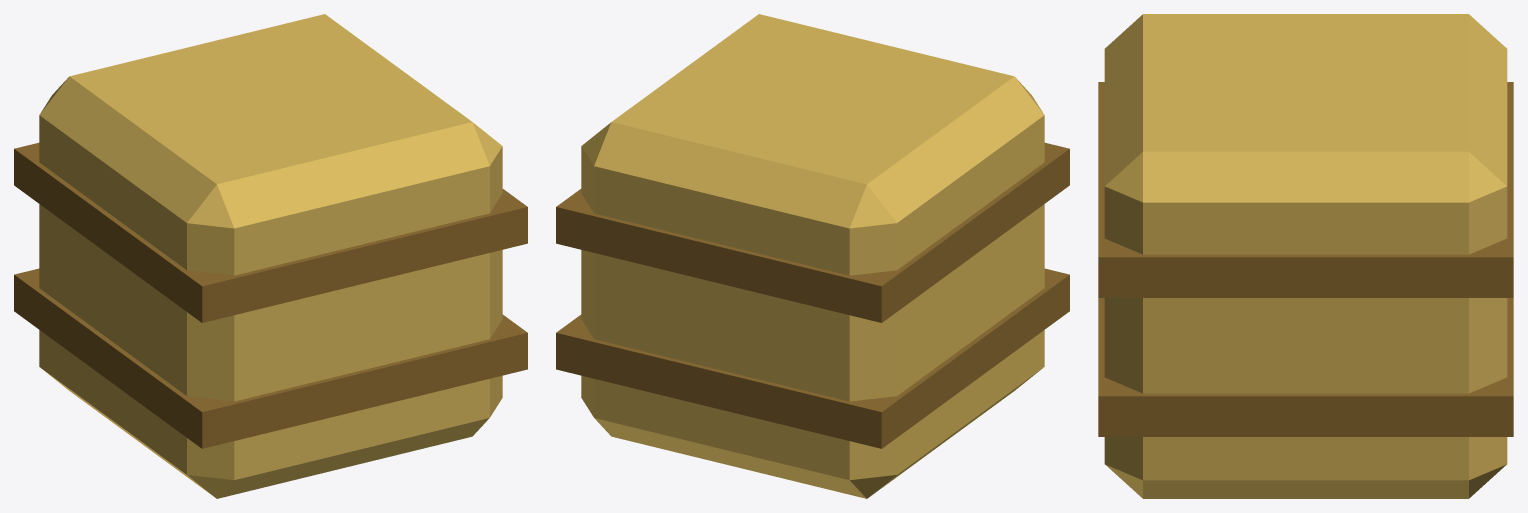
The model's file is env_r1_hay_bale.glb.
3 renders of one model, left to right at view 1: azimuth 30°, elevation 25°; view 2: azimuth 150°, elevation 25°; view 3: azimuth 270°, elevation 25°, orthographic. The views are drawn at different scales.
Visible parts, largest first — view 1: env_r1_hay_bale; view 2: env_r1_hay_bale; view 3: env_r1_hay_bale.
Part boxes in pixels (box(x1,y1,x2,y2)): env_r1_hay_bale: box(14, 14, 527, 498); env_r1_hay_bale: box(556, 14, 1069, 498); env_r1_hay_bale: box(1098, 14, 1513, 498).
Bounding box in the file's own units: 1.3 × 1.2 × 1.3.
Materials: 1 (1 with a texture image).
